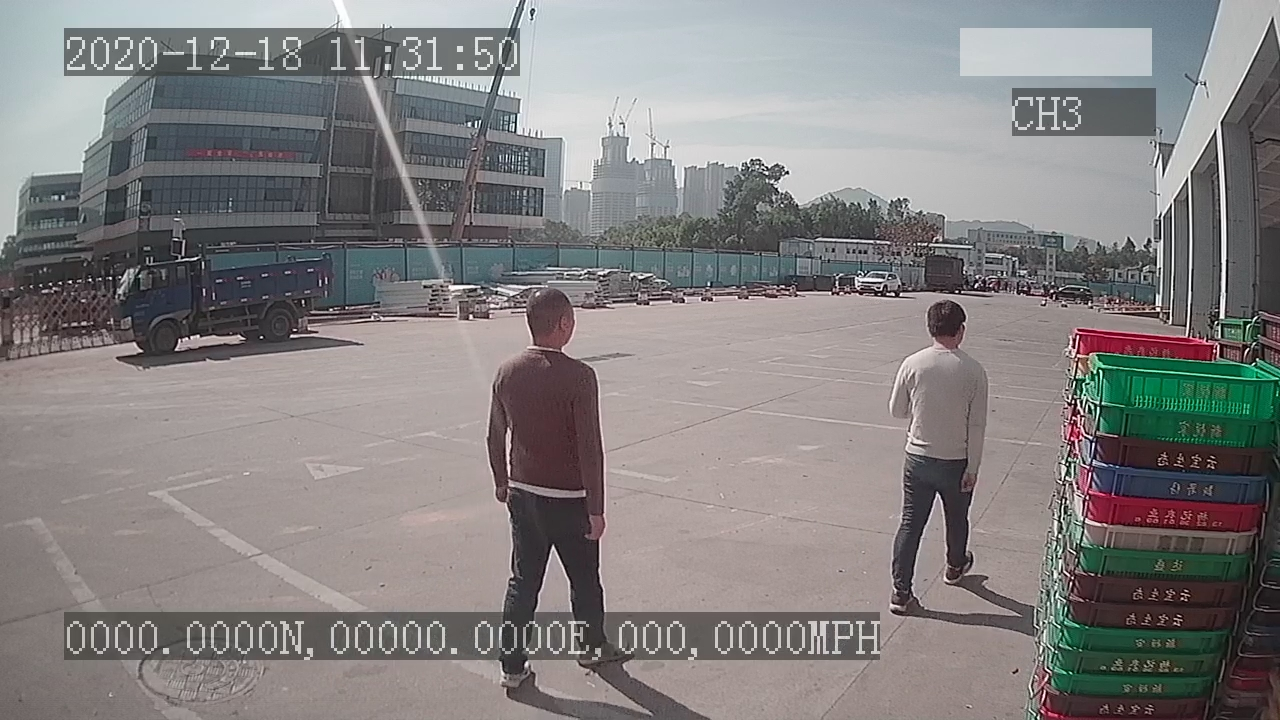person: (889, 301, 993, 612)
